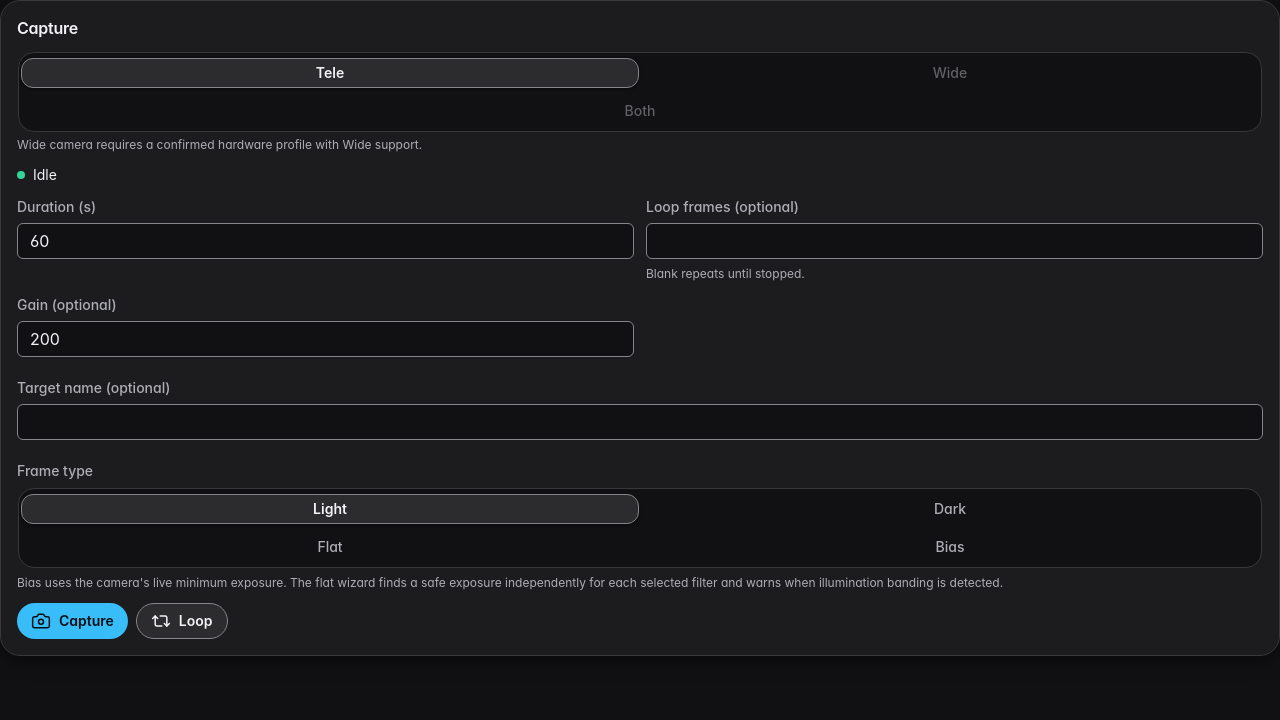
it: CapturePanel › shows a 409's detail verbatim
Click the button "Capture". click: (72, 621)
box: x1=17 y1=603 x2=128 y2=639
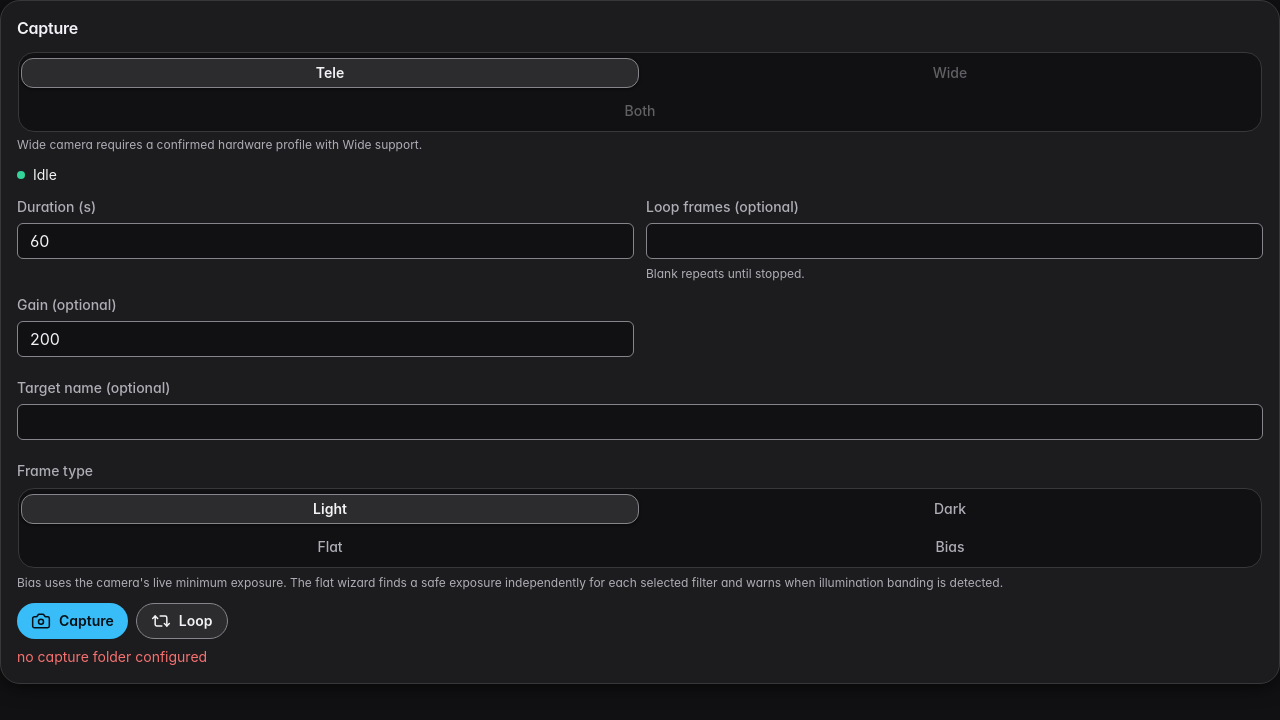
Result: the text "no capture folder configured" is shown at x1=17 y1=648 x2=207 y2=665
